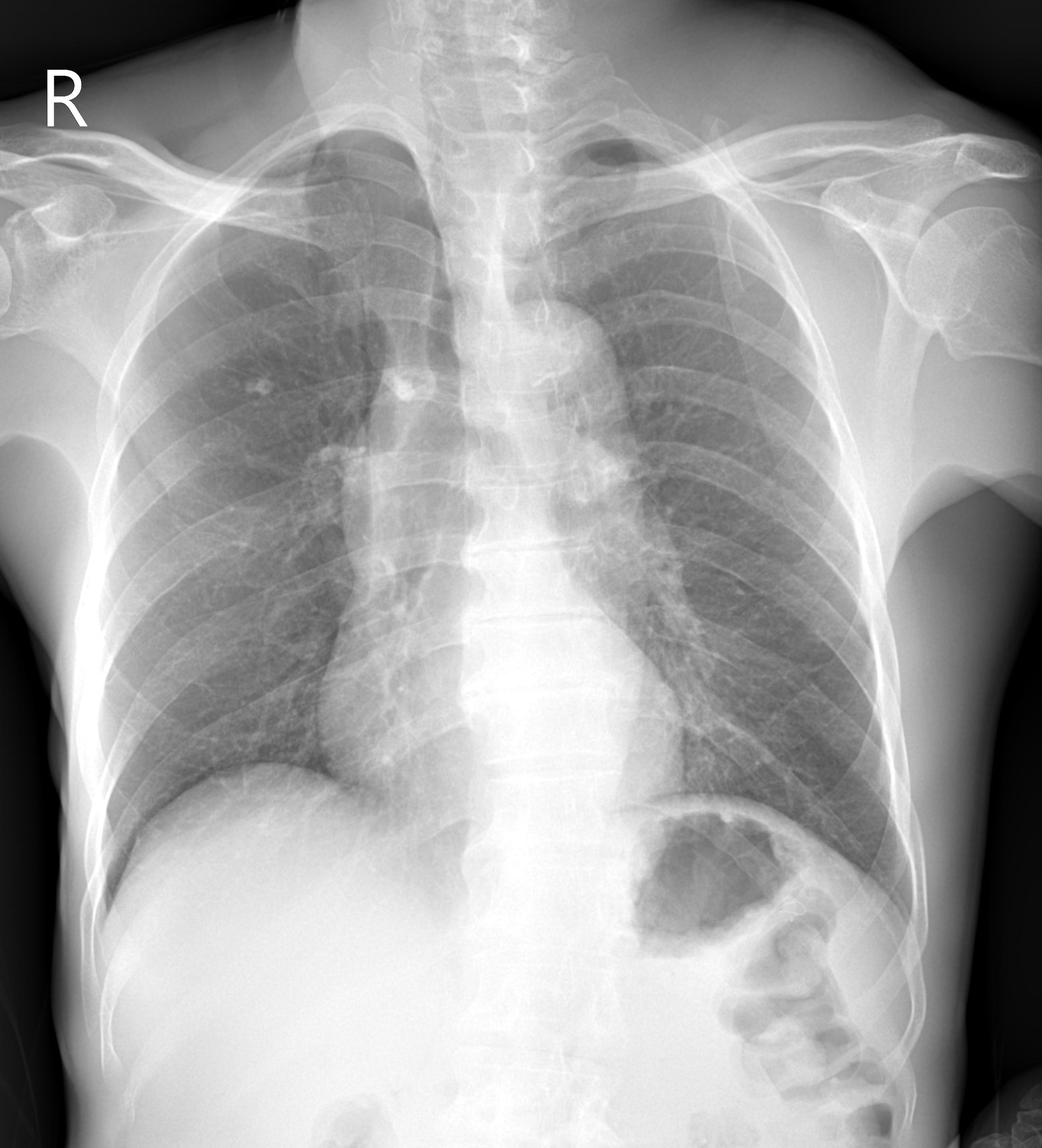Aortic enlargement: (341, 299, 636, 617)
Pleural thickening: (628, 129, 711, 187)
